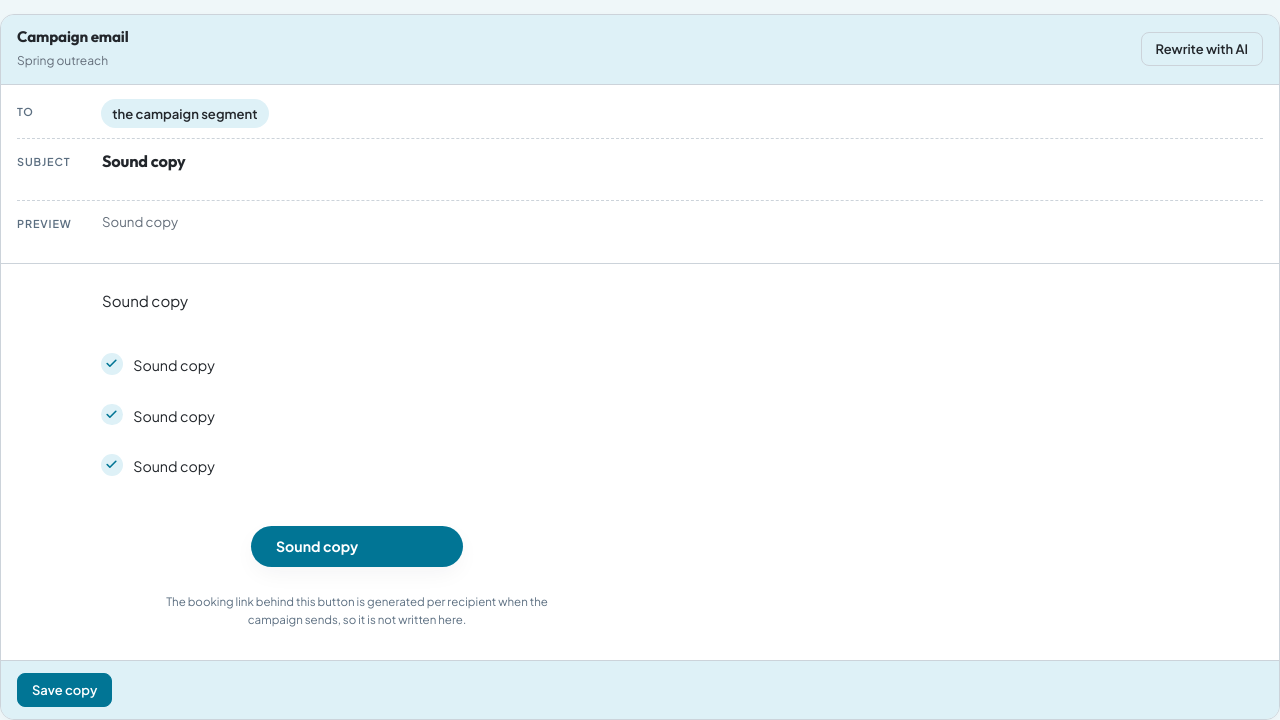
Test: CampaignCopyEditor › generation › replaces the fields with what came back
This screenshot has width=1280, height=720.
Click the button with test id "generate-copy".
click(1202, 49)  # box x1=1140 y1=32 x2=1263 y2=66
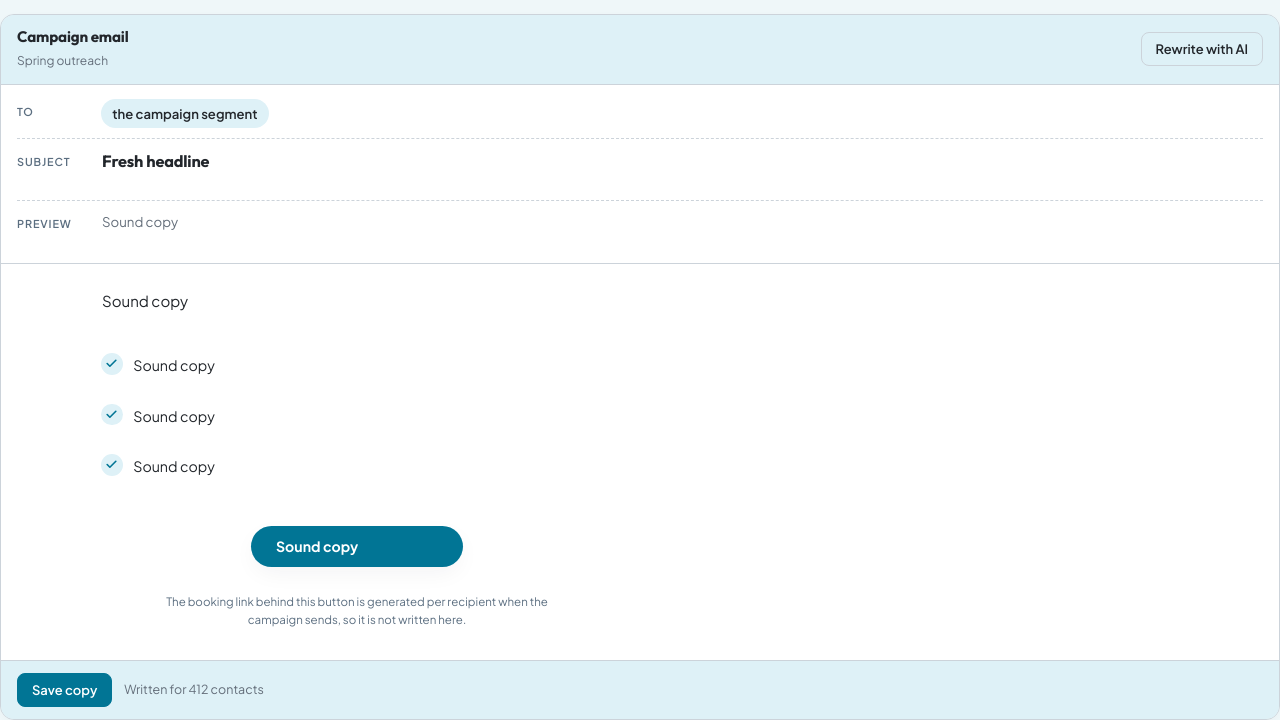
Expected: the text box with test id "copy-field-Headline" holds "Fresh headline", x1=102 y1=150 x2=1262 y2=172
